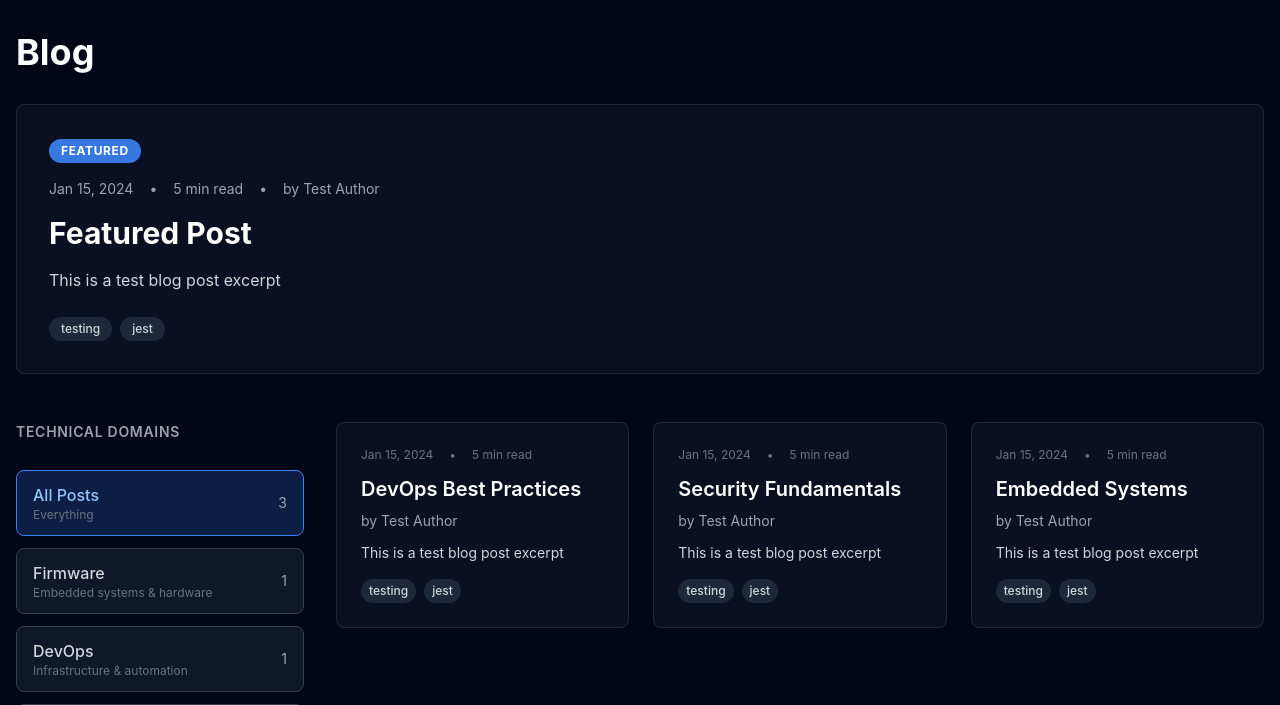
Scenario: BlogLayout Domain Filtering › Filtering Behavior › filters posts when a domain is selected
Expected: the heading "DevOps Best Practices" is shown, x1=361 y1=475 x2=604 y2=503
Expected: the heading "Security Fundamentals" is shown, x1=678 y1=475 x2=922 y2=503
# Click DevOps filter
Step 1. Click the button "DevOps Infrastructure & automation 1" → point(63, 651), box x1=16 y1=626 x2=304 y2=692
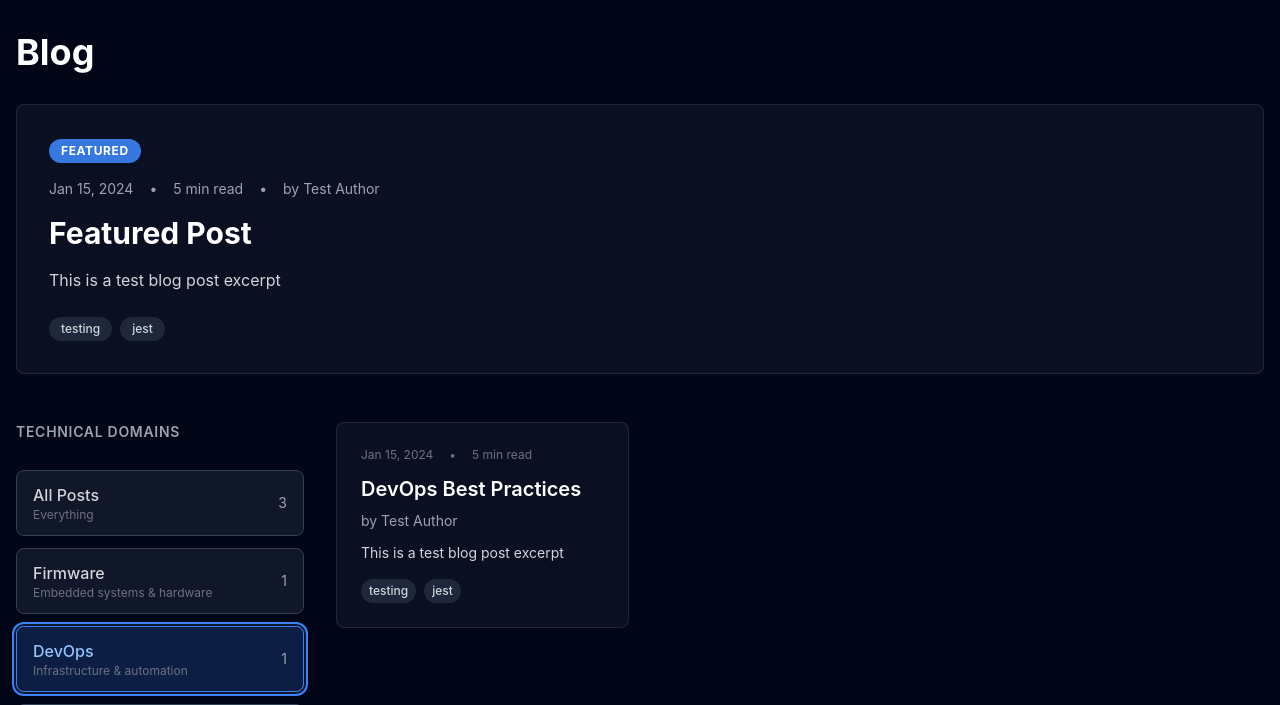
Expected: the heading "DevOps Best Practices" is shown, x1=361 y1=475 x2=604 y2=503
Expected: the link "Security Fundamentals" is gone
